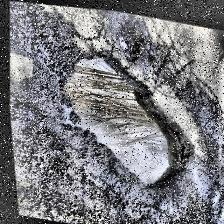pothole: (45, 46, 202, 192), (114, 18, 146, 62)
